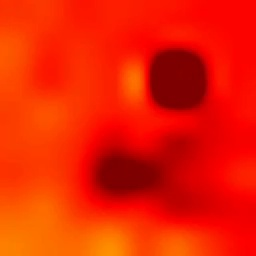person: (94, 142, 217, 204)
